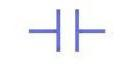Capacitor: (44, 6, 88, 55)
